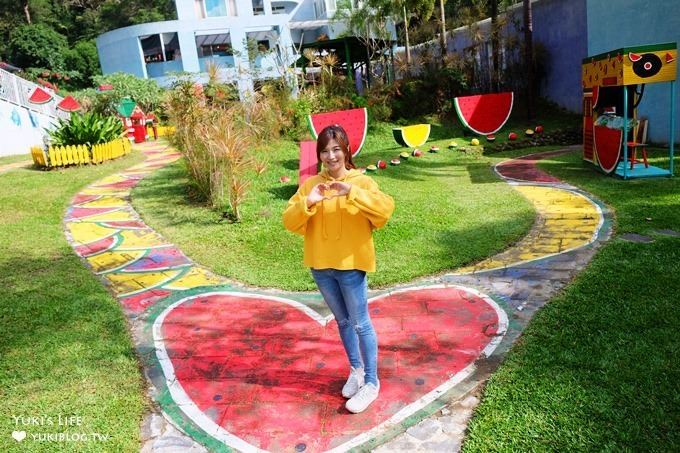people: (284, 129, 394, 415)
